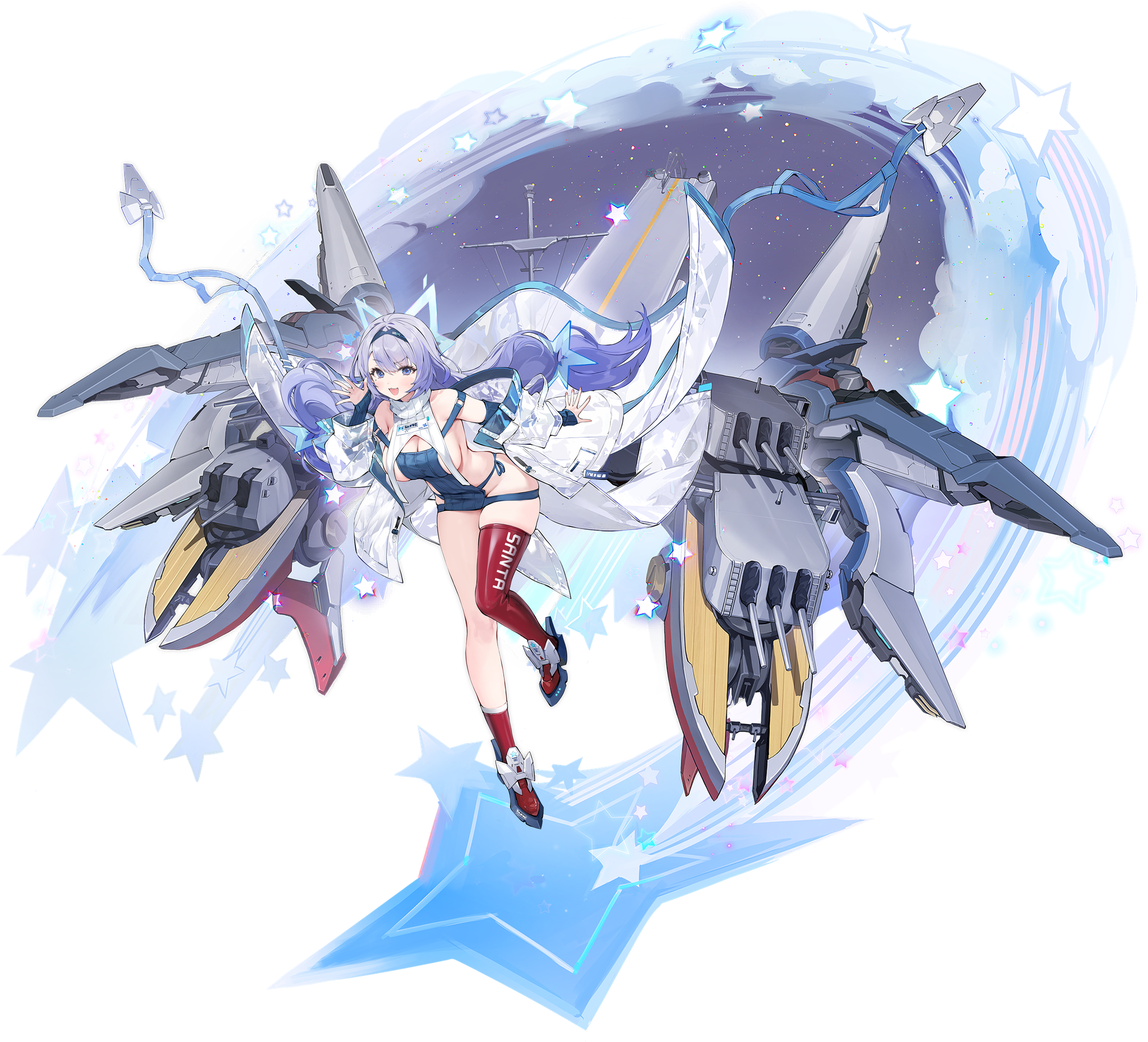person: (307, 257, 615, 864)
